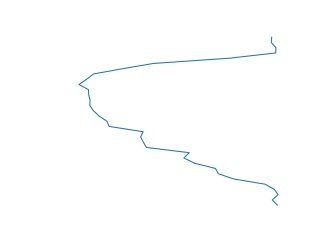mouthBar: (74, 36, 283, 208)
